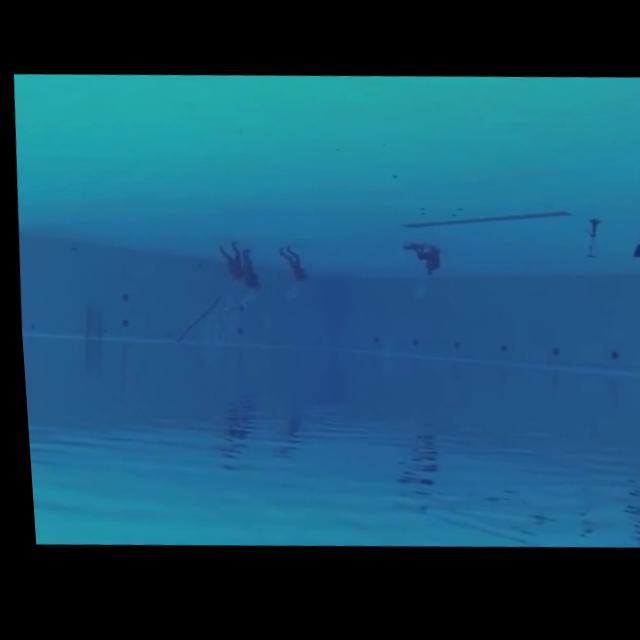human: (391, 237, 440, 288), (265, 240, 310, 293), (208, 238, 244, 292), (231, 247, 262, 300), (618, 198, 640, 270)
